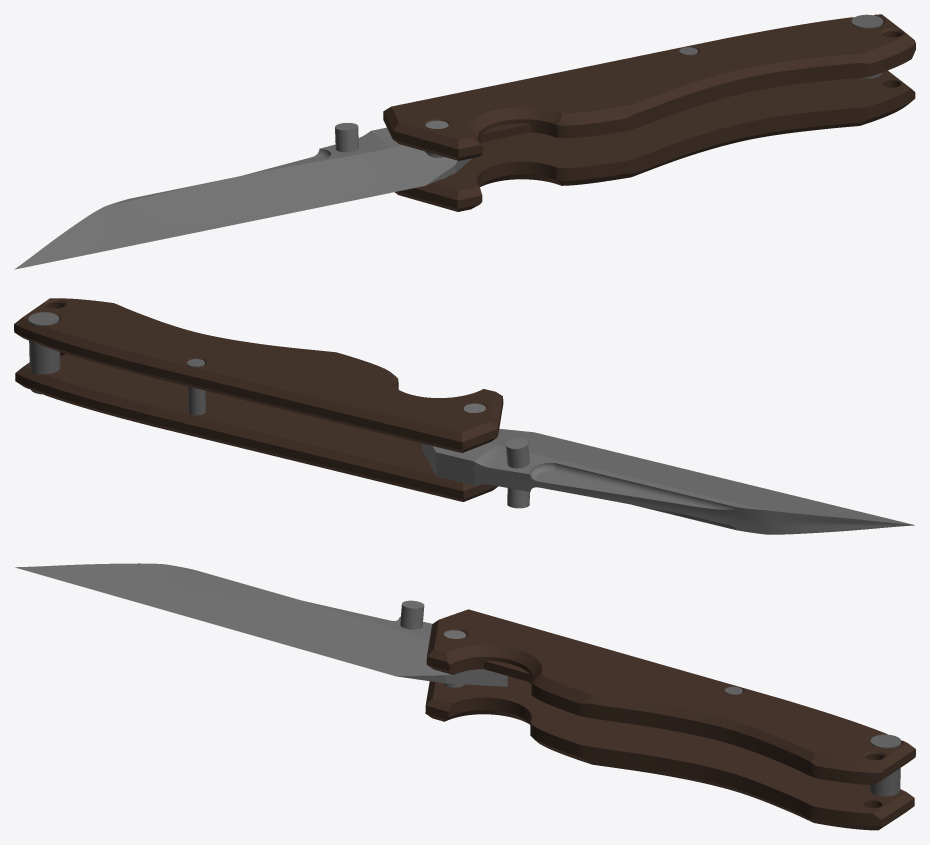
Rendered from nozik.glb.
3 renders of one model, top to bottom at view 1: azimuth 30°, elevation 25°; view 2: azimuth 150°, elevation 25°; view 3: azimuth 330°, elevation 25°, orthographic. The views are drawn at different scales.
Parts seen in each view (by area): view 1: bok, lezvie.001, pipki; view 2: bok, lezvie.001, pipki; view 3: bok, lezvie.001, pipki.
Part boxes in pixels (x1,y1,x2,y2): bok: (383, 14, 915, 211); lezvie.001: (14, 123, 471, 269); pipki: (679, 14, 883, 78); bok: (14, 298, 503, 501); lezvie.001: (422, 428, 914, 534); pipki: (28, 312, 206, 415); bok: (425, 609, 915, 830); lezvie.001: (15, 563, 507, 686); pipki: (725, 686, 901, 796).
Size of the model in its own units: 2.23 by 0.1934 by 0.2734.
